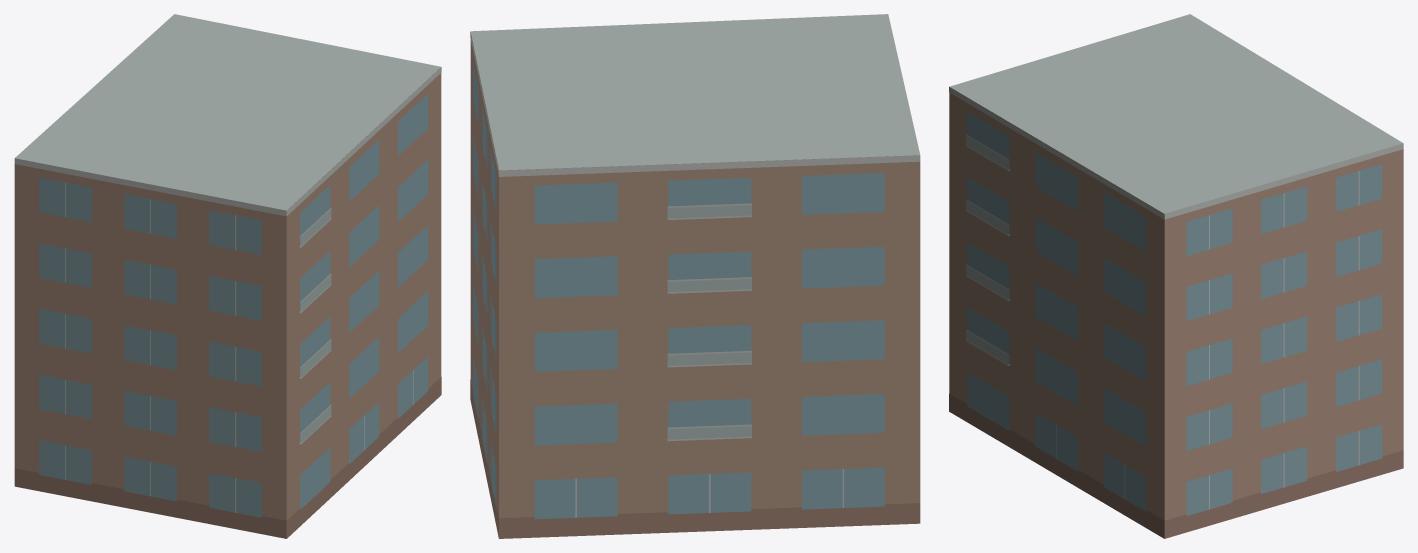
Rendered from survey-upis-32483557.glb.
3 views of the same model, side by side, from view 1: azimuth 30°, elevation 25°; view 2: azimuth 150°, elevation 25°; view 3: azimuth 270°, elevation 25° (orthographic). The views are drawn at different scales.
Visible parts, largest first — view 1: survey-upis-32483557.tmp; view 2: survey-upis-32483557.tmp; view 3: survey-upis-32483557.tmp.
Boxes of the visible parts, x1,y1,x2,y2 form: survey-upis-32483557.tmp: (14, 14, 441, 538); survey-upis-32483557.tmp: (470, 14, 920, 538); survey-upis-32483557.tmp: (949, 14, 1403, 538).
Size of the model in its own units: 18.21 by 13.8 by 17.5.
